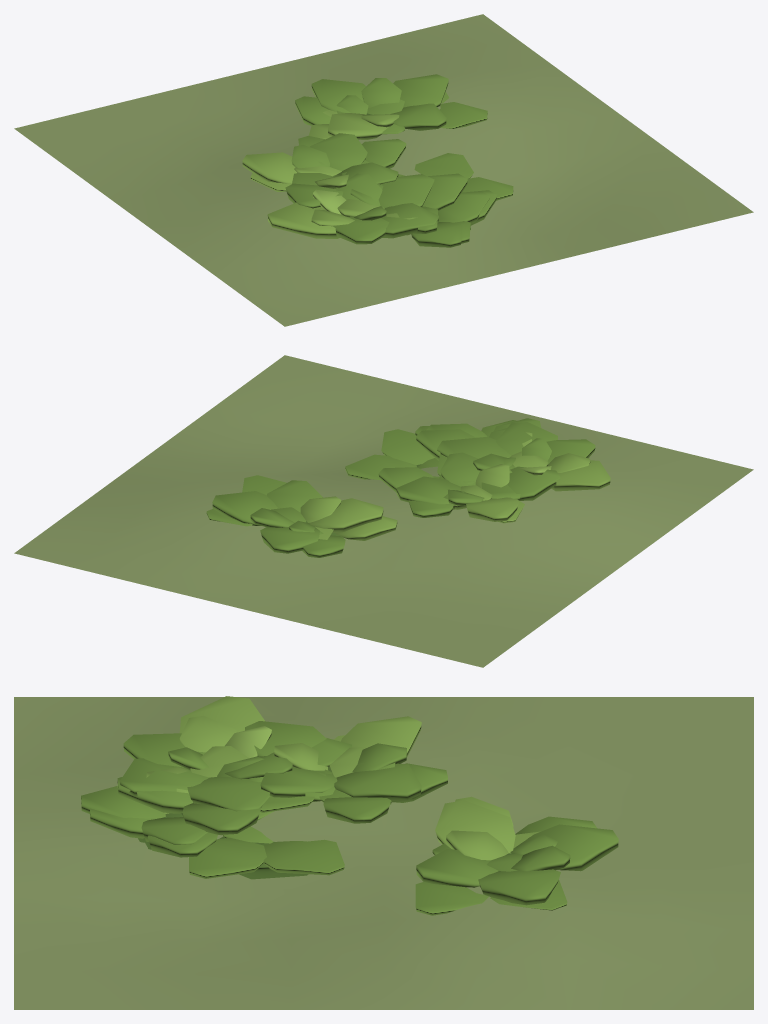
The model's file is master_grass_lush_08.glb.
The picture shows the model from 3 angles, top to bottom: view 1: azimuth 30°, elevation 25°; view 2: azimuth 150°, elevation 25°; view 3: azimuth 270°, elevation 25°; orthographic projection. The views are drawn at different scales.
Visible parts, largest first — view 1: master_grass_lush_08; view 2: master_grass_lush_08; view 3: master_grass_lush_08.
Boxes of the visible parts, <box> form: master_grass_lush_08: <box>14,14,753,326</box>; master_grass_lush_08: <box>14,355,753,667</box>; master_grass_lush_08: <box>14,696,753,1009</box>.
Size of the model in its own units: 1.35 by 0.129 by 1.35.
